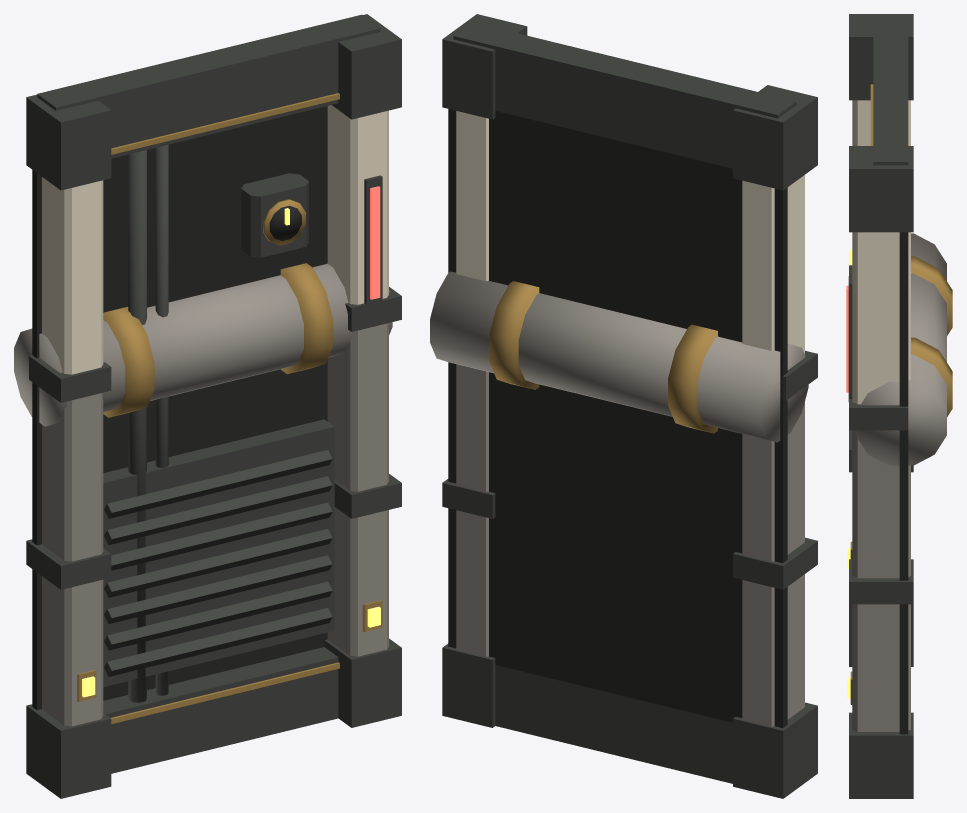
The model's file is b2_wall_vent.glb.
The picture shows the model from 3 angles, left to right: view 1: azimuth 30°, elevation 25°; view 2: azimuth 150°, elevation 25°; view 3: azimuth 270°, elevation 25°; orthographic projection. The views are drawn at different scales.
Visible parts, largest first — view 1: b2_wall_vent; view 2: b2_wall_vent; view 3: b2_wall_vent.
Part boxes in pixels (left/top/right/bottom): b2_wall_vent: left=14, top=14, right=401, bottom=798; b2_wall_vent: left=430, top=14, right=817, bottom=798; b2_wall_vent: left=846, top=14, right=952, bottom=798.
Bounding box in the file's own units: 2.1 × 4 × 0.6106.
